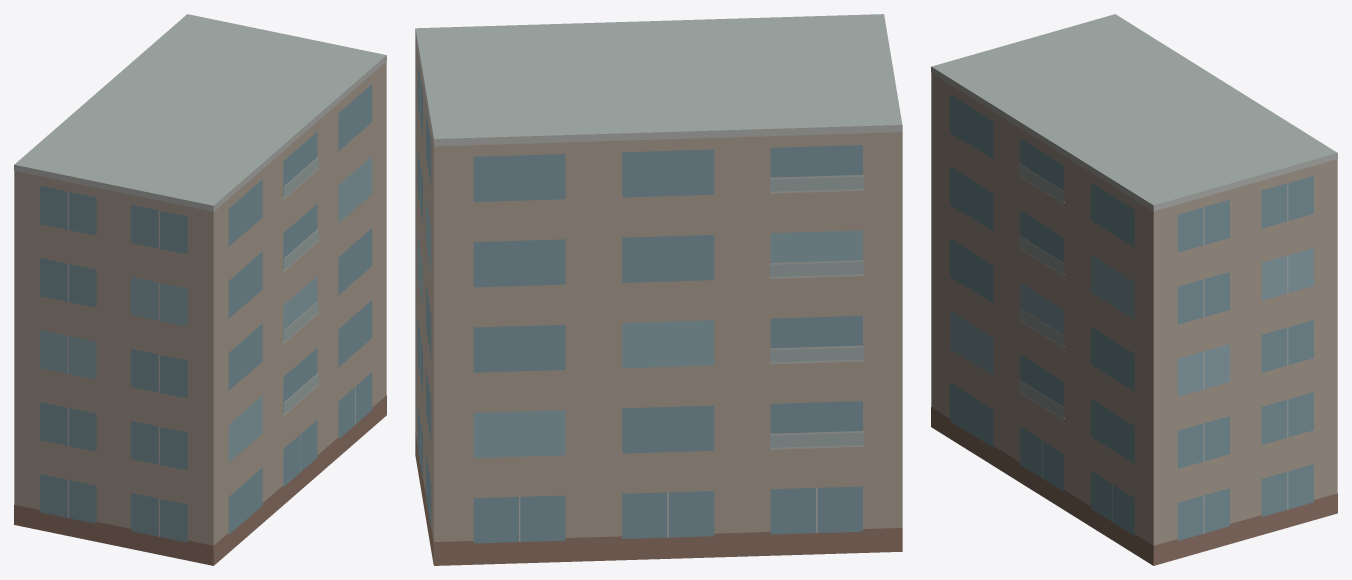
File: survey-upis-32883373.glb
3 views of the same model, side by side, from view 1: azimuth 30°, elevation 25°; view 2: azimuth 150°, elevation 25°; view 3: azimuth 270°, elevation 25° (orthographic). The views are drawn at different scales.
Visible parts, largest first — view 1: survey-upis-32883373.tmp; view 2: survey-upis-32883373.tmp; view 3: survey-upis-32883373.tmp.
Part boxes in pixels (x1,y1,x2,y2): survey-upis-32883373.tmp: [14, 14, 386, 565]; survey-upis-32883373.tmp: [415, 14, 902, 565]; survey-upis-32883373.tmp: [931, 14, 1337, 565].
Size of the model in its own units: 16.41 by 14.4 by 14.73.
